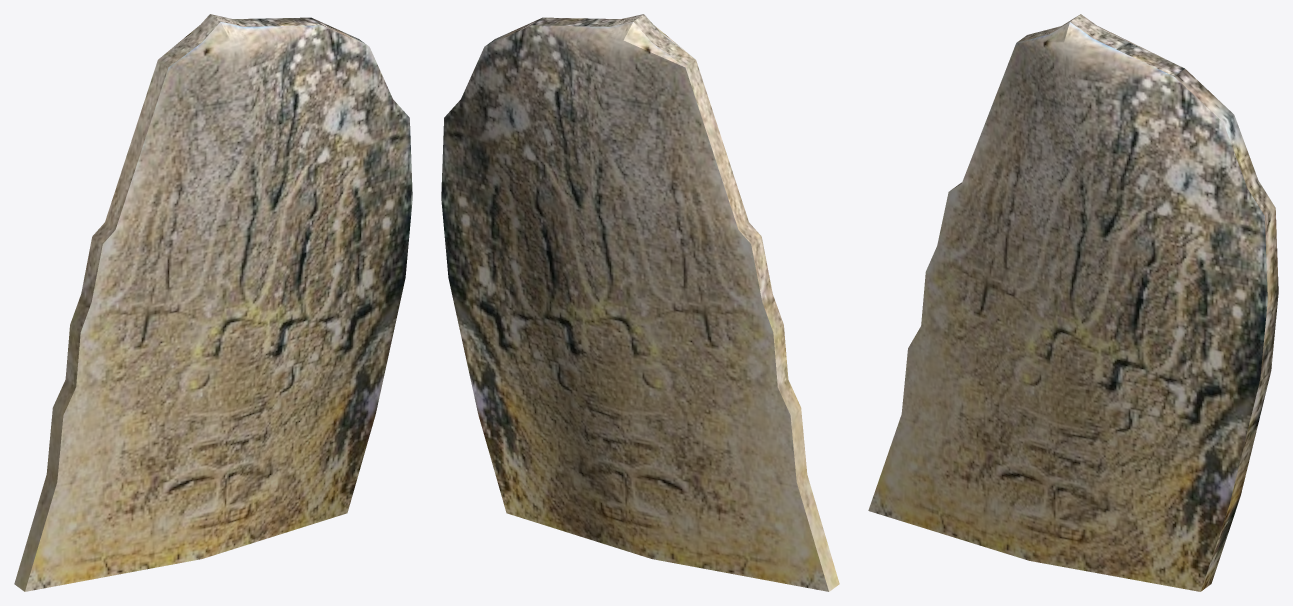
The model's file is Rock9.FBX.
3 views of the same model, side by side, from view 1: azimuth 30°, elevation 25°; view 2: azimuth 150°, elevation 25°; view 3: azimuth 330°, elevation 25° (orthographic). The views are drawn at different scales.
Parts seen in each view (by area): view 1: 9Rock; view 2: 9Rock; view 3: 9Rock.
Part boxes in pixels (bbox=[...]): 9Rock: bbox=[14, 14, 412, 591]; 9Rock: bbox=[441, 14, 839, 591]; 9Rock: bbox=[868, 14, 1278, 591].
Bounding box in the file's own units: 7.04 × 9.06 × 1.
